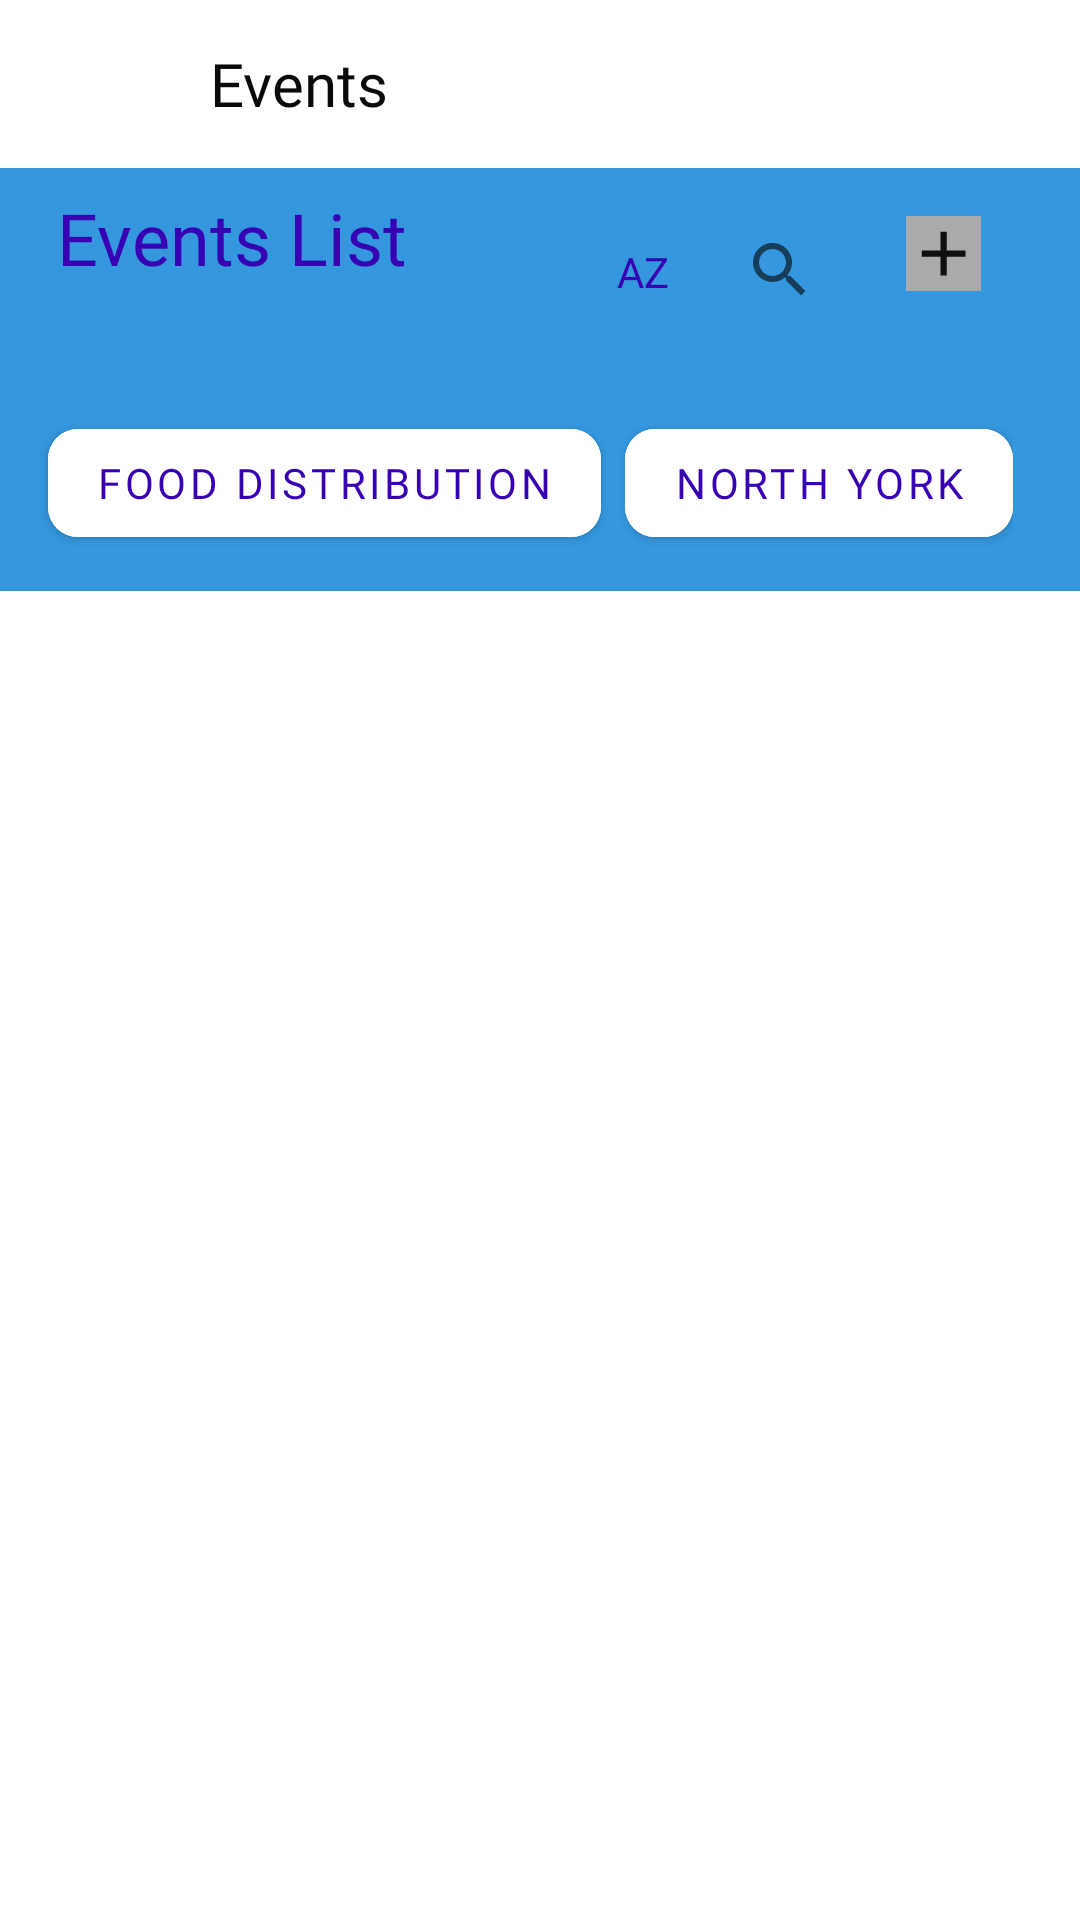

Icon click points for this 1080×1920 phone screenshot, format [x,y]:
add: [943,253]
search: [779,269]
